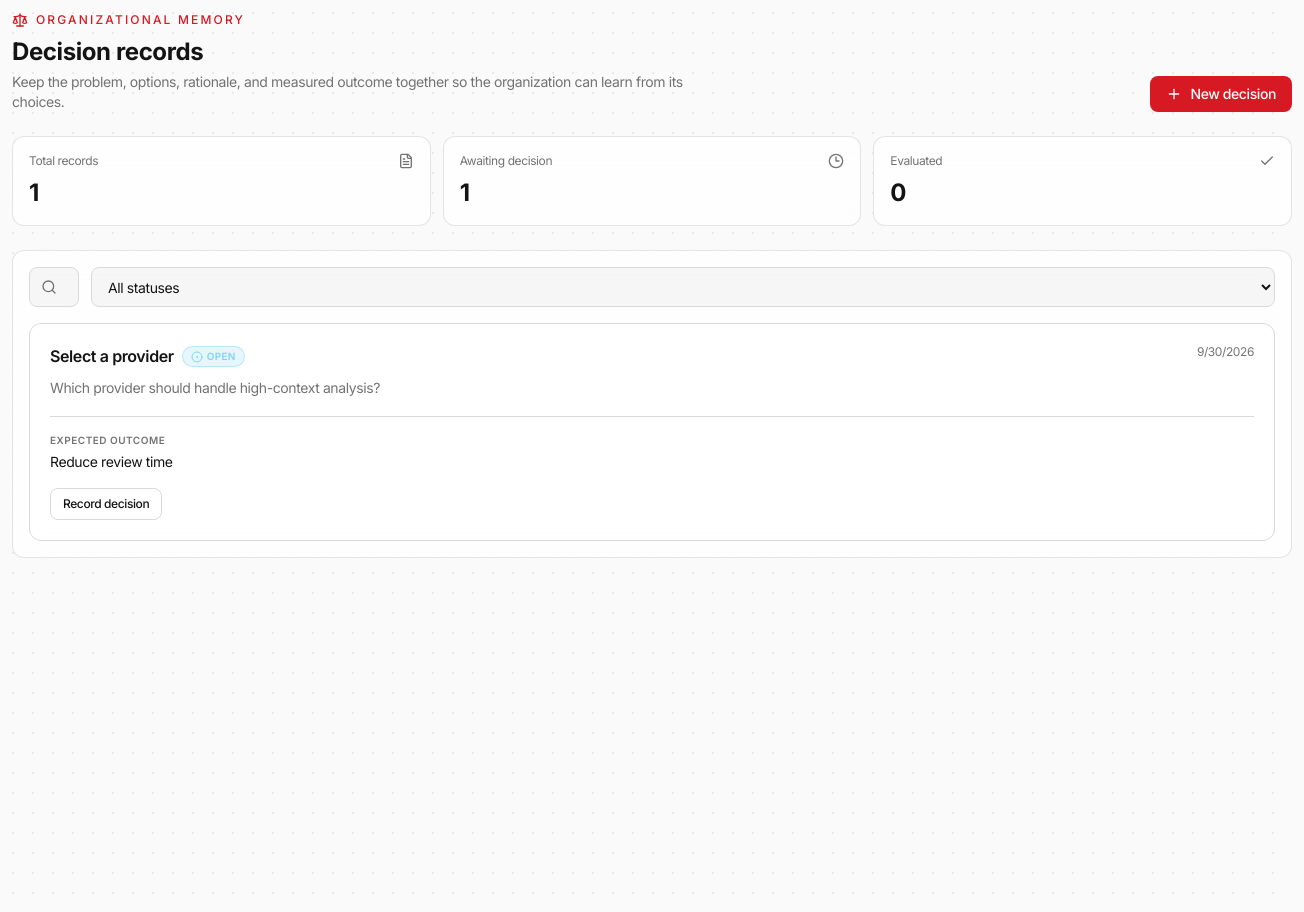
it: DecisionsPage › loads and filters live decision records by status and search text
This screenshot has width=1304, height=912.
Check: the heading "Select a provider" is shown, box [50,344,174,368]
Step 1. Select "Evaluated" in the dropdown named "Filter by status" → (683, 287), box [91,267,1275,307]
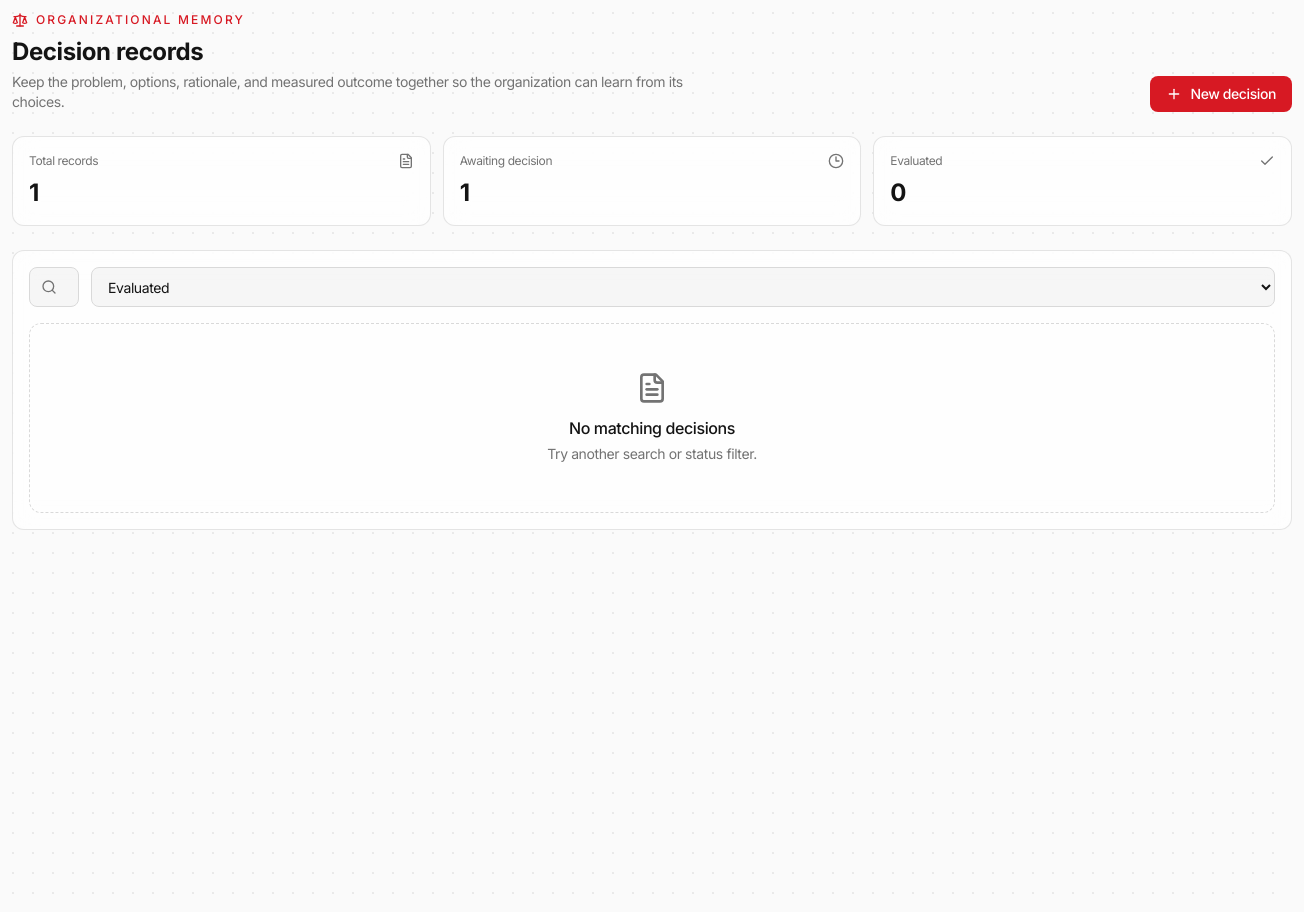
Check: the heading "No matching decisions" is shown, box [569,416,735,440]
